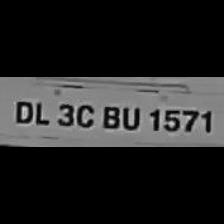1: (197, 106, 215, 136), (143, 106, 161, 132)
3: (54, 98, 74, 128)
5: (160, 106, 180, 132)
7: (180, 104, 198, 134)
B: (99, 103, 121, 130)
C: (74, 101, 96, 128)
D: (9, 98, 34, 127)
L: (30, 98, 50, 127)
U: (119, 103, 141, 132)
